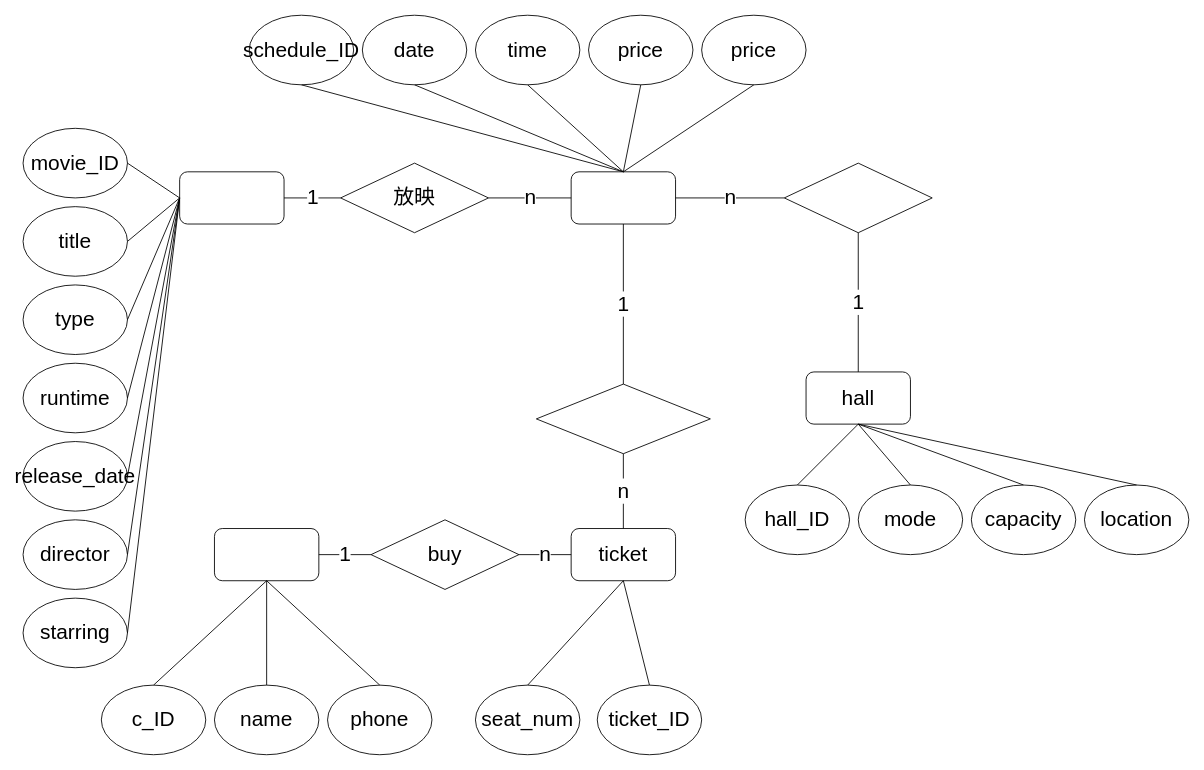
The diagram is 1204 pixels wide and 770 high, and some of its shapes have lost their labels. Each missing label, with the centre of its shape:
customer: point 266,554
movie: point 231,197
schedule: point 623,197
位于: point 857,197
属于: point 622,418
